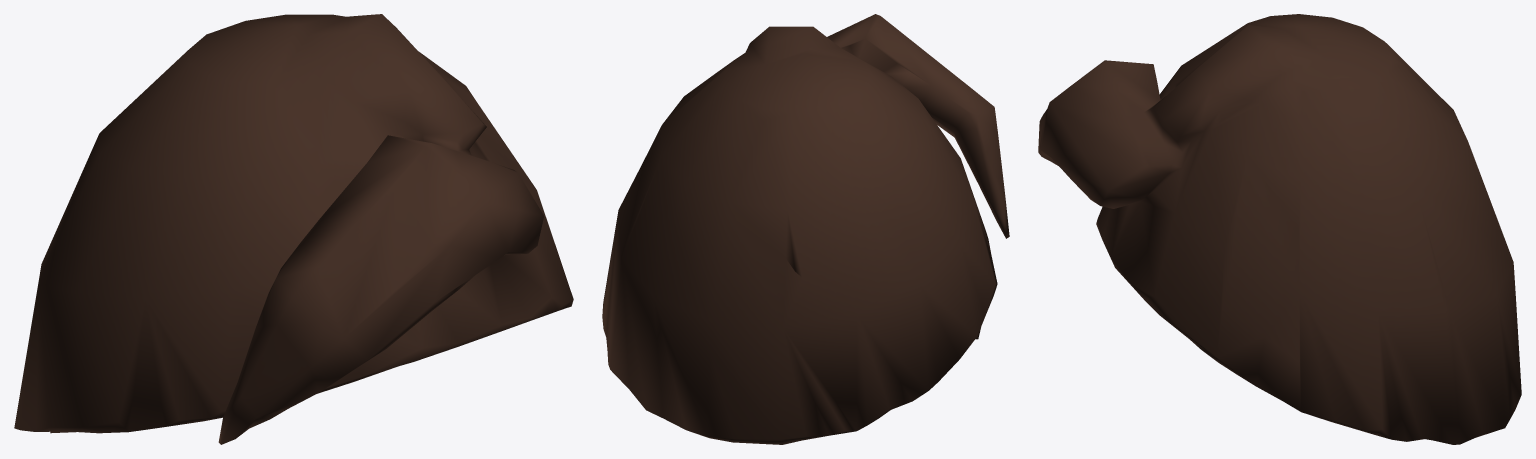
Rendered from hair_01_sidepart.glb.
The picture shows the model from 3 angles, left to right: view 1: azimuth 30°, elevation 25°; view 2: azimuth 150°, elevation 25°; view 3: azimuth 270°, elevation 25°; orthographic projection. The views are drawn at different scales.
Parts seen in each view (by area): view 1: Hair_01_SidePart; view 2: Hair_01_SidePart; view 3: Hair_01_SidePart.
Boxes of the visible parts, x1=… form: Hair_01_SidePart: x1=14, y1=14, x2=573, y2=444; Hair_01_SidePart: x1=602, y1=14, x2=1009, y2=444; Hair_01_SidePart: x1=1038, y1=14, x2=1521, y2=444.
Bounding box in the file's own units: 0.2248 × 0.1988 × 0.2296.
